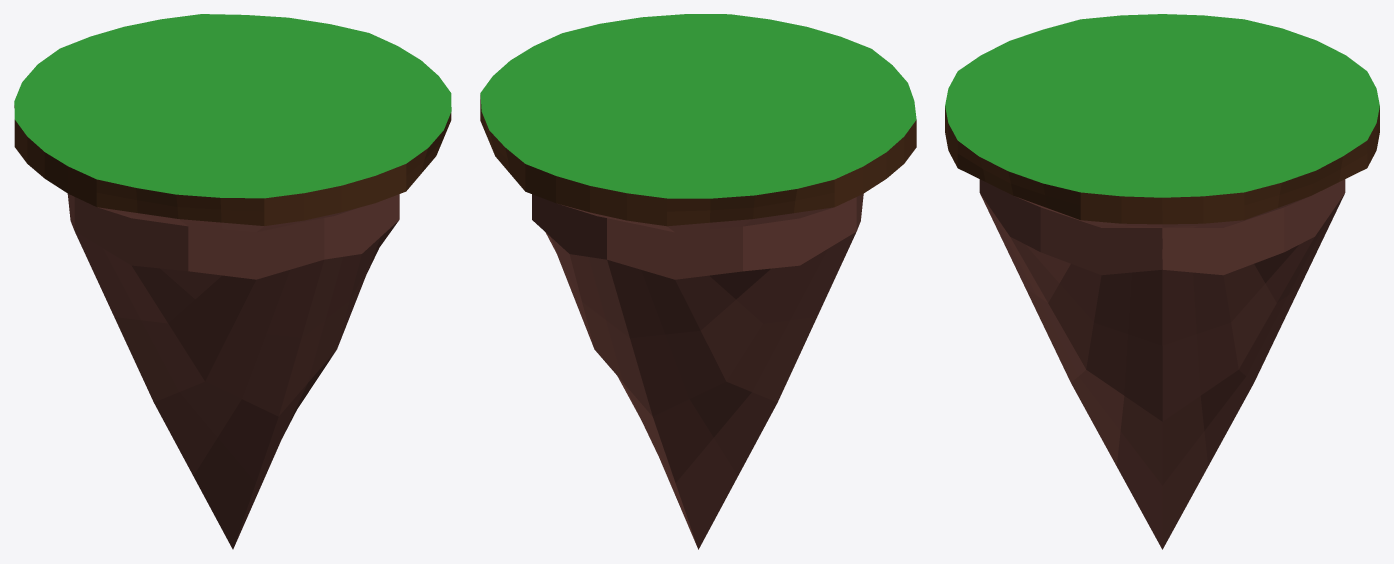
Rendered from IlhaVoadora.fbx.
The picture shows the model from 3 angles, left to right: view 1: azimuth 30°, elevation 25°; view 2: azimuth 150°, elevation 25°; view 3: azimuth 270°, elevation 25°; orthographic projection.
Parts seen in each view (by area): view 1: Cube; view 2: Cube; view 3: Cube.
Part boxes in pixels (x1,y1,x2,y2): Cube: [14, 14, 451, 549]; Cube: [480, 14, 916, 549]; Cube: [945, 14, 1379, 549].
Bounding box in the file's own units: 4979 × 5610 × 4979.
